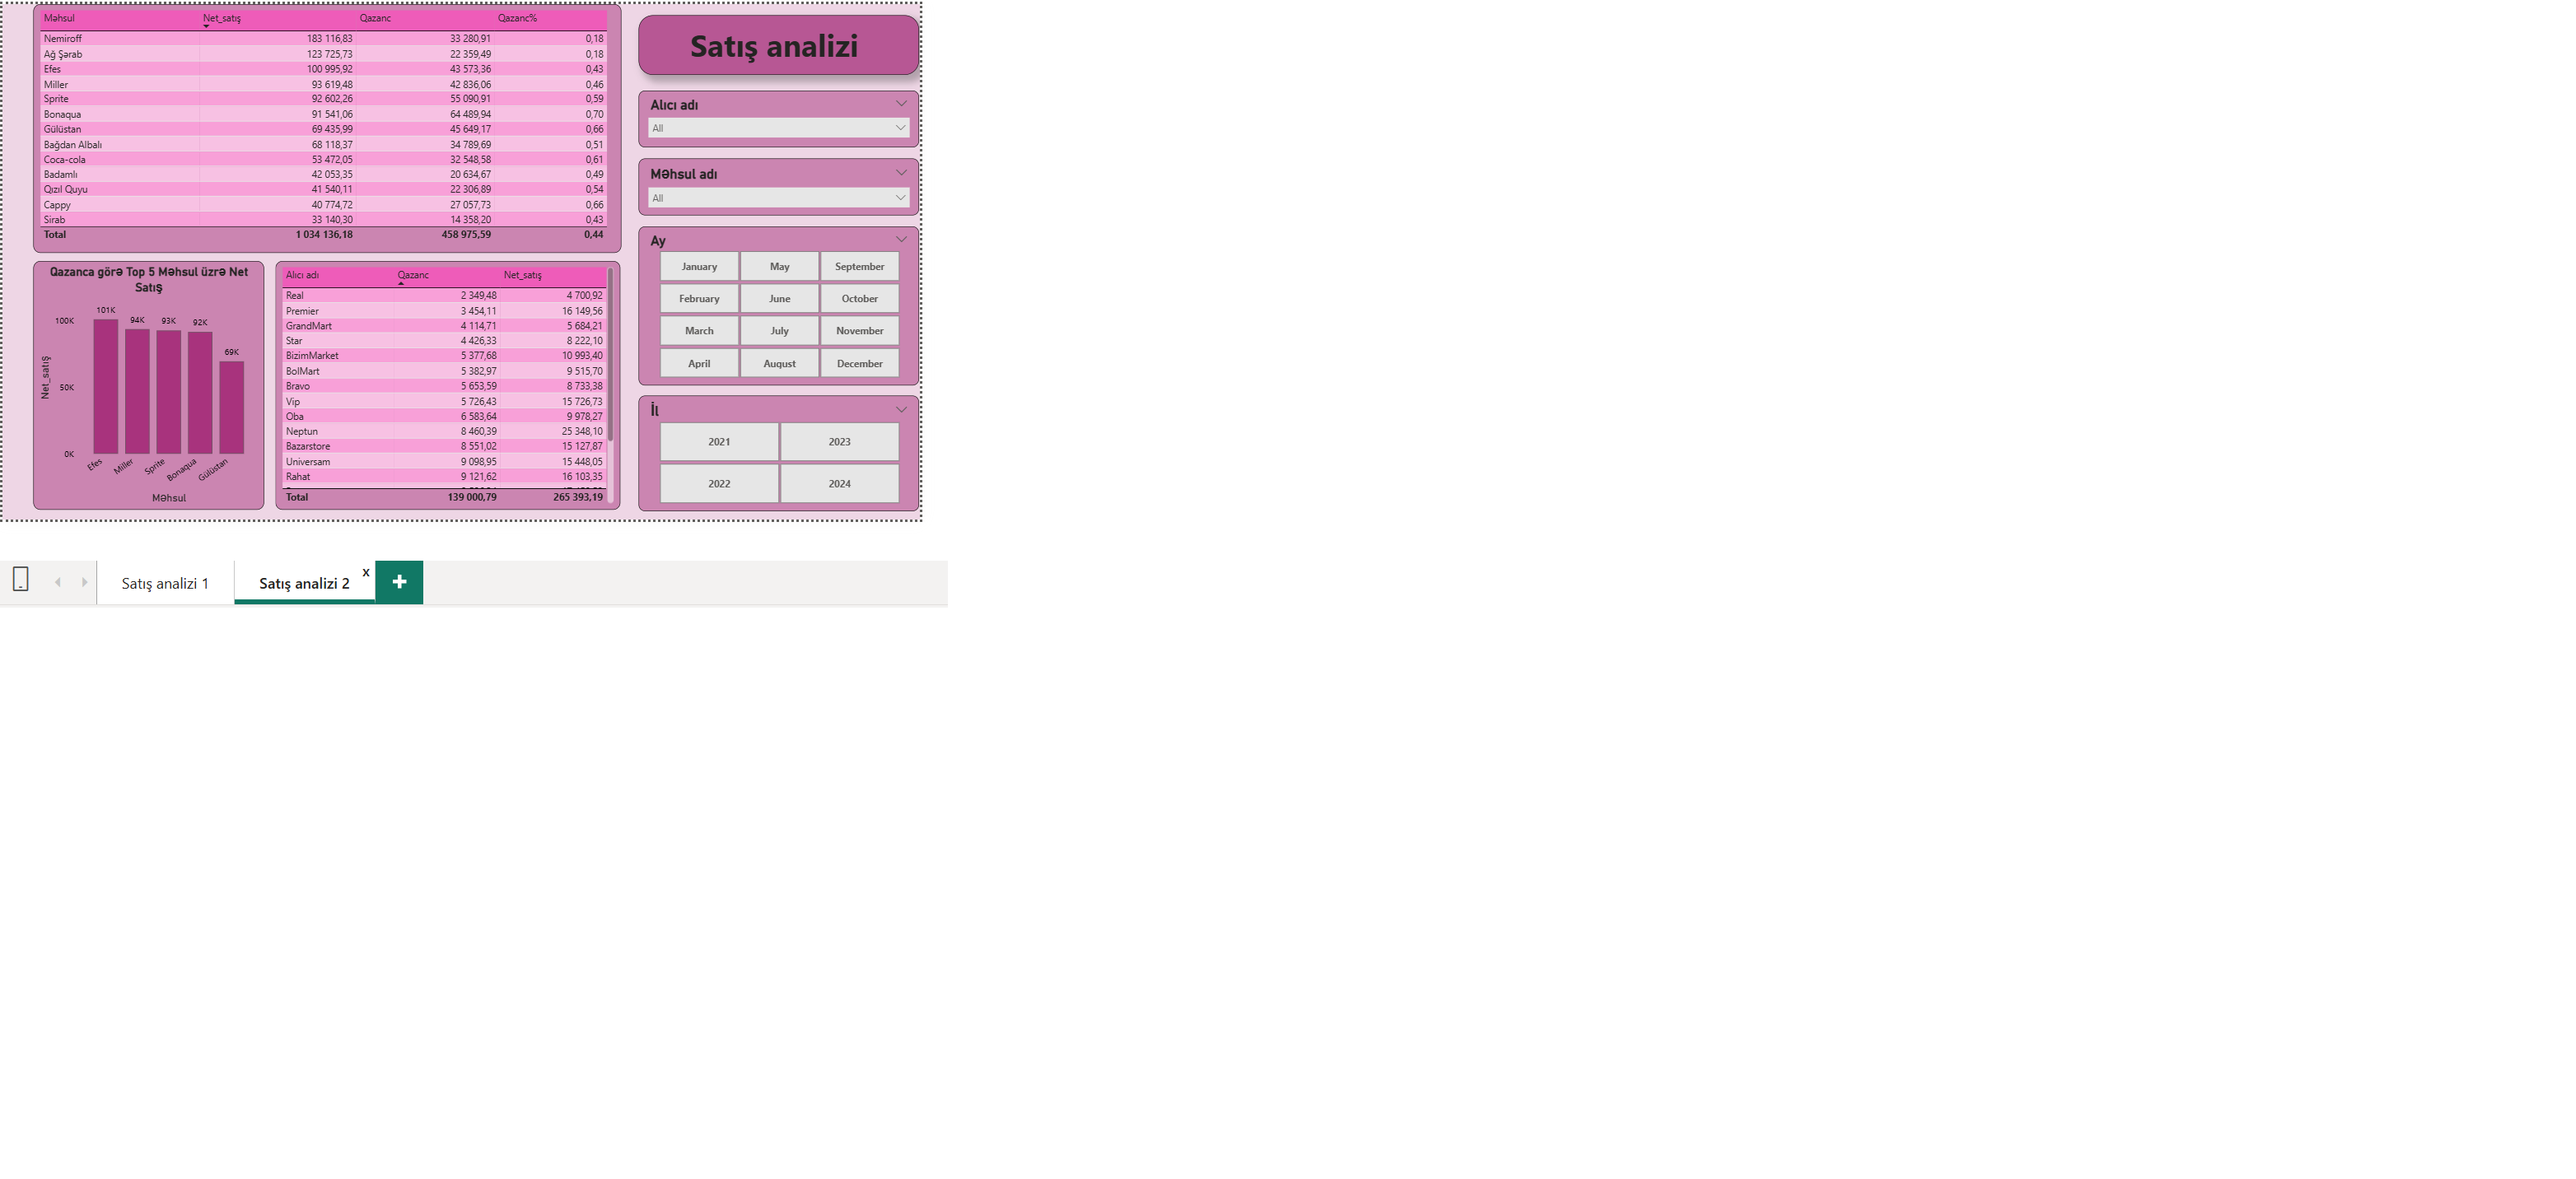

The page's visual inventory and layout, read from the dashboard file:
{"tool":"powerbi","page":{"name":"Satış analizi 2","canvas":[1280,720],"ordinal":1},"visuals":[{"type":"columnChart","title":"Qazanca görə Top 5 Məhsul üzrə Net Satış ","fields":{"Category":["Məhsul.Məhsul"],"Y":["Hesablama.Net_satış"]},"box":[42.4,359.3,322,347.5],"z":0},{"type":"slicer","fields":{"Values":["date.Date.Variation.Date Hierarchy.Month"]},"box":[888.1,310.2,391.5,222],"z":1000},{"type":"slicer","fields":{"Values":["Alıcı.Alıcı adı"]},"box":[888.1,120.3,391.5,79.7],"z":2000},{"type":"slicer","fields":{"Values":["Məhsul.Məhsul"]},"box":[888.1,215.3,391.5,79.7],"z":3000},{"type":"slicer","fields":{"Values":["date.Date.Variation.Date Hierarchy.Year"]},"box":[888.1,545.8,391.5,161],"z":4000},{"type":"textbox","box":[888.1,15.3,391.5,83.1],"z":5000},{"type":"tableEx","title":"Qazanca görə Top 5 Məhsul üzrə Net Satış ","fields":{"Values":["Məhsul.Məhsul","Hesablama.Net_satış","Hesablama.Qazanc","Hesablama.Qazanc%"]},"box":[42.4,0,820.3,347.5],"z":6000},{"type":"tableEx","title":"Qazanca görə Top 5 Məhsul üzrə Net Satış ","fields":{"Values":["Alıcı.Alıcı adı","Hesablama.Qazanc","Hesablama.Net_satış"]},"box":[381.4,359.3,481.4,347.5],"z":7000}]}

Visuals, with their boxes on the page's 1280x720 design canvas (x1, y1, x2, y2). These are canvas units, not pixel positions in the 2576x1179 screenshot, which may show the page scaled, cropped or inside an application window:
"Qazanca görə Top 5 Məhsul üzrə Net Satış " columnChart: 42,359,364,707
slicer - date.Date.Variation.Date Hierarchy.Month: 888,310,1280,532
slicer - Alıcı.Alıcı adı: 888,120,1280,200
slicer - Məhsul.Məhsul: 888,215,1280,295
slicer - date.Date.Variation.Date Hierarchy.Year: 888,546,1280,707
textbox: 888,15,1280,98
"Qazanca görə Top 5 Məhsul üzrə Net Satış " tableEx: 42,0,863,348
"Qazanca görə Top 5 Məhsul üzrə Net Satış " tableEx: 381,359,863,707
